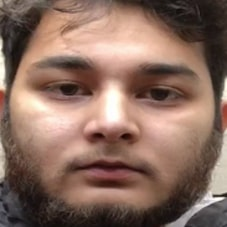awake: (26, 45, 203, 202)
